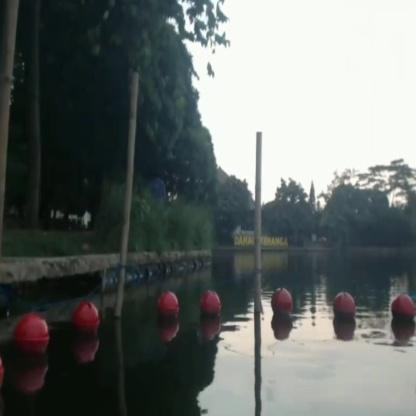red_buoy: (10, 312, 48, 368), (70, 300, 98, 347), (154, 288, 180, 332), (197, 289, 222, 330), (331, 288, 354, 332), (388, 292, 414, 329), (270, 286, 292, 322)
